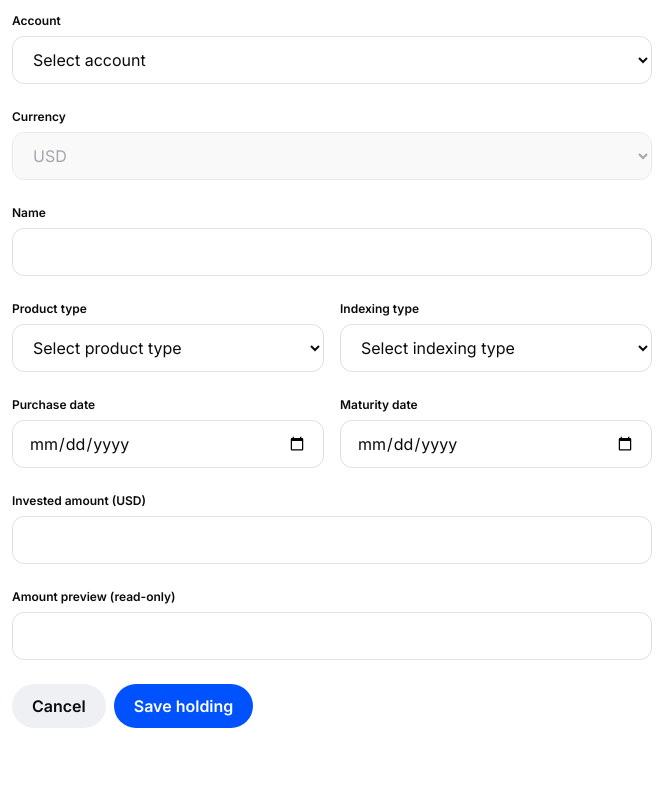
BrFiForm indexing fields › shows IPCA spread and indicator picker for IPCA + Spread indexing
This screenshot has width=669, height=805.
Select "IPCA + Spread" in the dropdown labelled "Indexing type" at (496, 348), box [340,324,652,372]
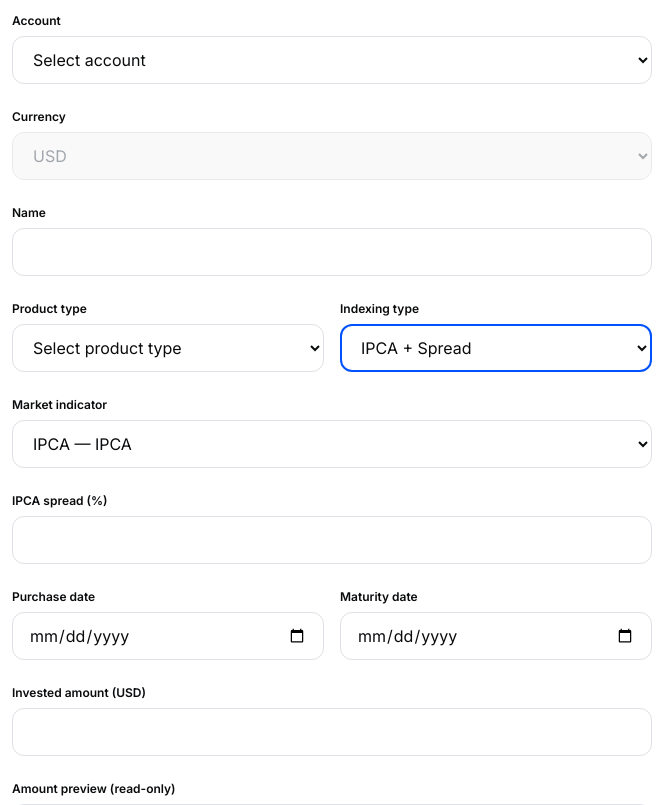
Expected: the number field labelled "IPCA spread (%)" is shown, [12,516,652,564]
Now the dropdown labelled "Market indicator" is shown, box [12,420,652,468]
